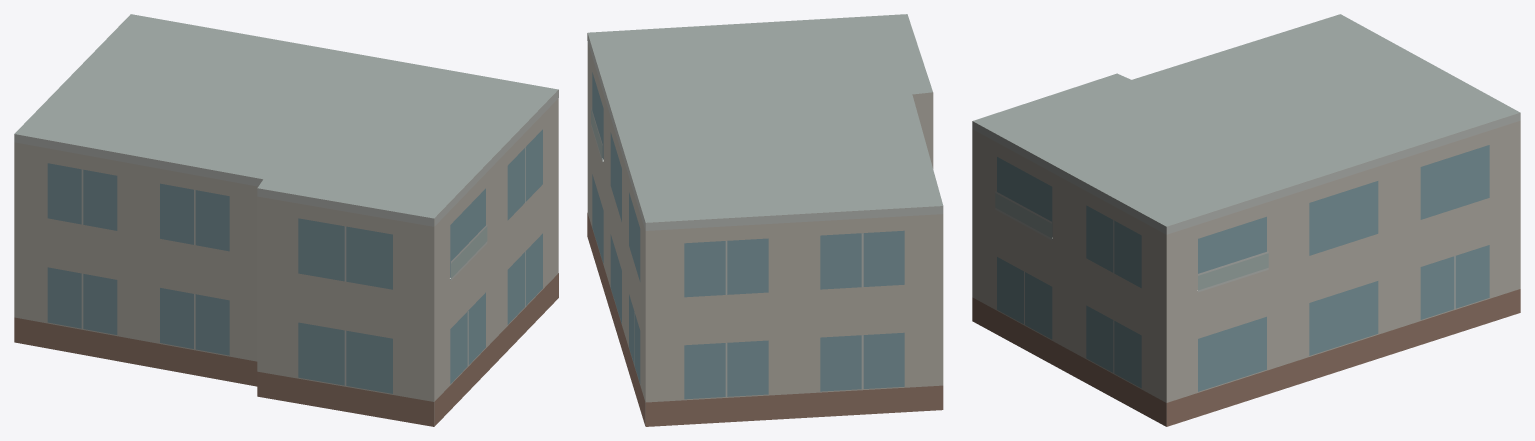
Rendered from survey-upis-33025838.glb.
3 views of the same model, side by side, from view 1: azimuth 30°, elevation 25°; view 2: azimuth 150°, elevation 25°; view 3: azimuth 270°, elevation 25° (orthographic). The views are drawn at different scales.
Visible parts, largest first — view 1: survey-upis-33025838.tmp; view 2: survey-upis-33025838.tmp; view 3: survey-upis-33025838.tmp.
Boxes of the visible parts, x1,y1,x2,y2 form: survey-upis-33025838.tmp: (14,14,558,426); survey-upis-33025838.tmp: (587,14,943,426); survey-upis-33025838.tmp: (972,14,1520,426).
Bounding box in the file's own units: 13.92 × 6.1 × 15.15.
